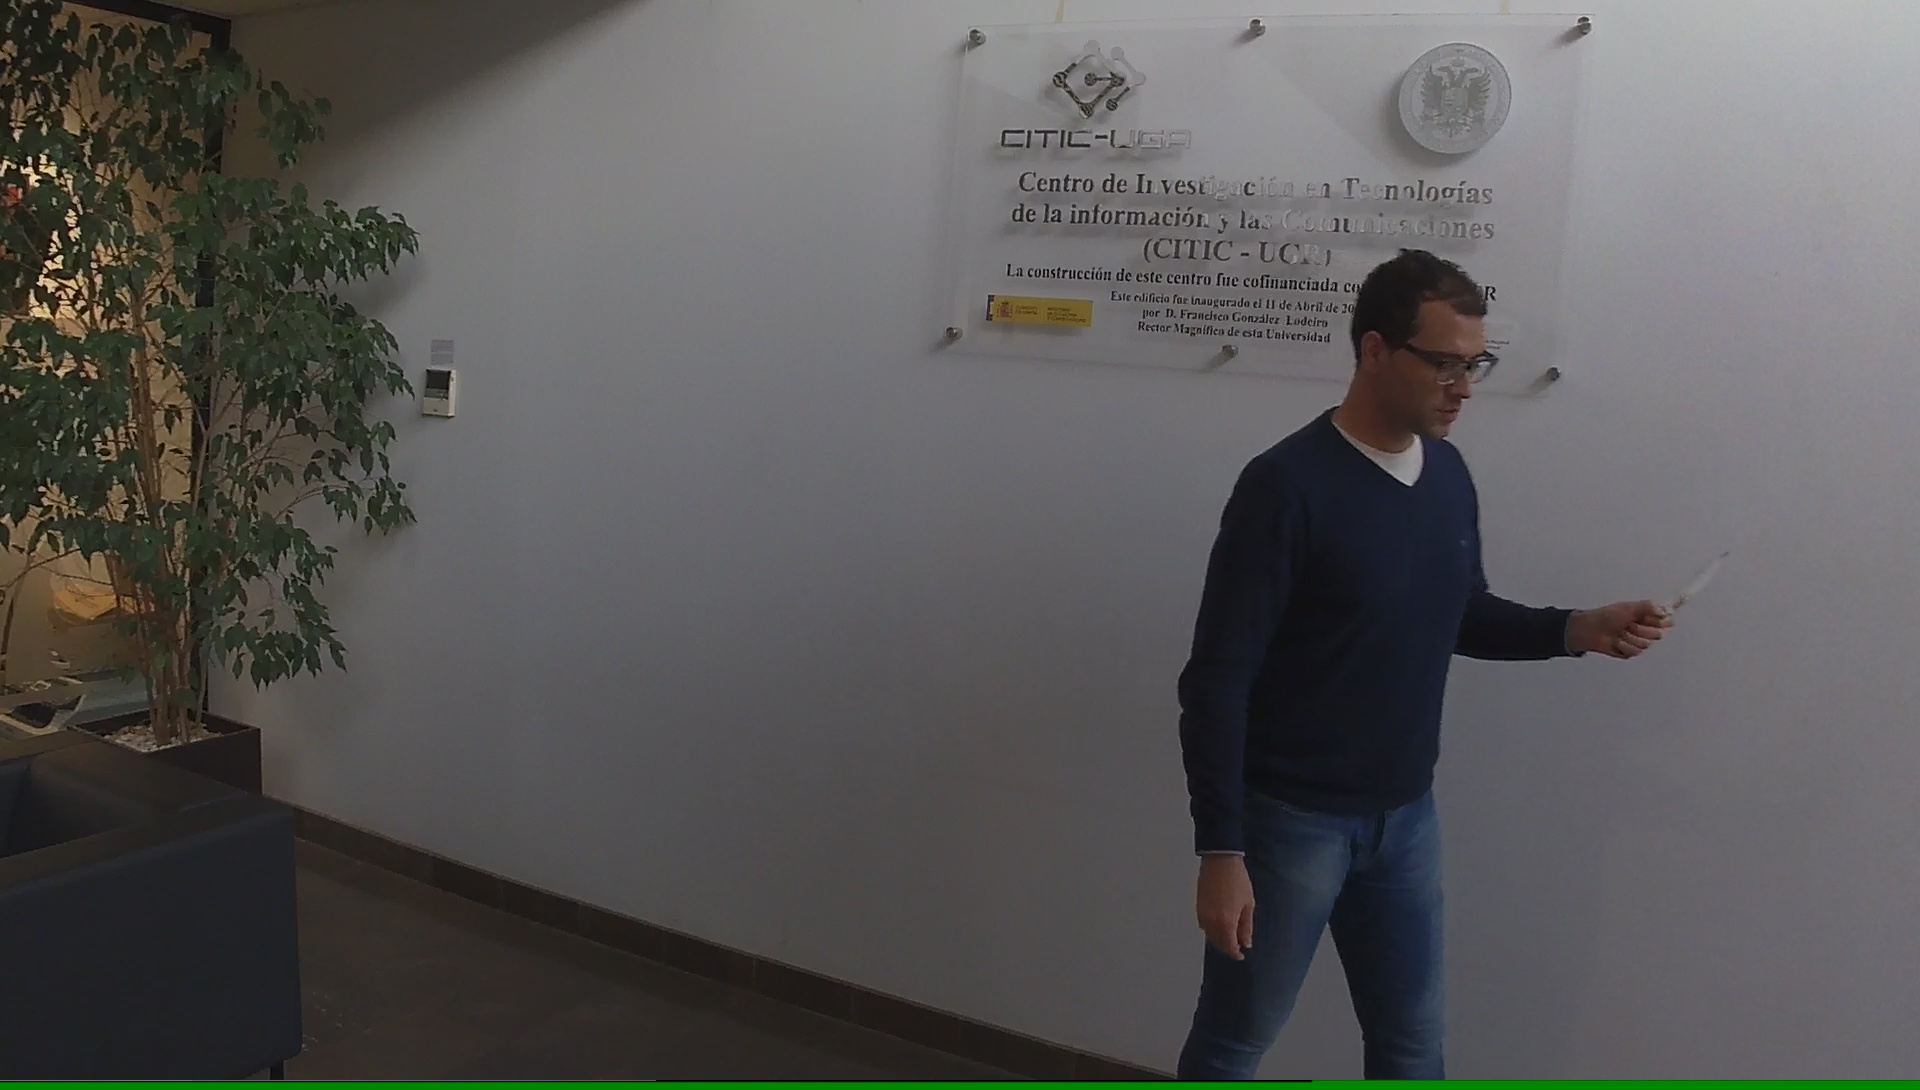knife: (1625, 540, 1741, 648)
